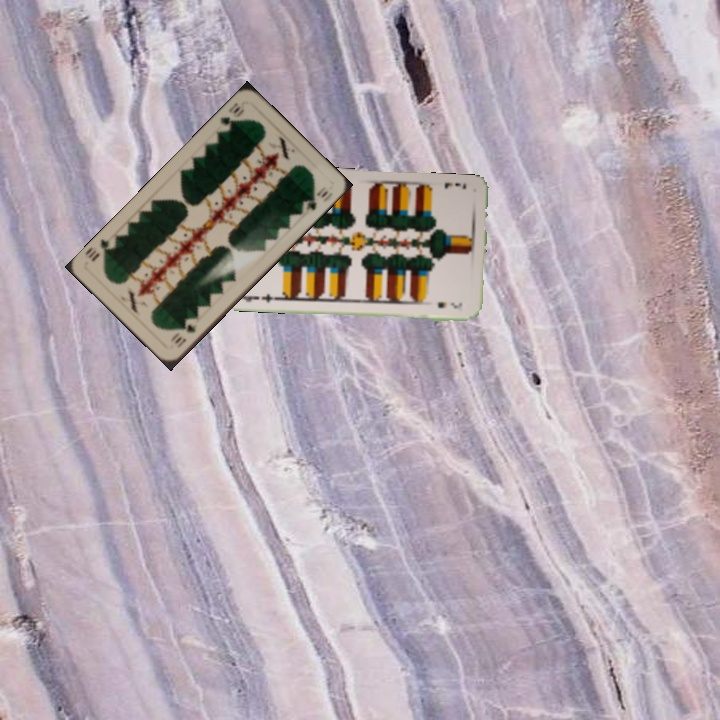E7: (238, 290, 279, 305), (441, 179, 468, 192)
G10: (216, 98, 247, 135), (170, 320, 200, 351)
